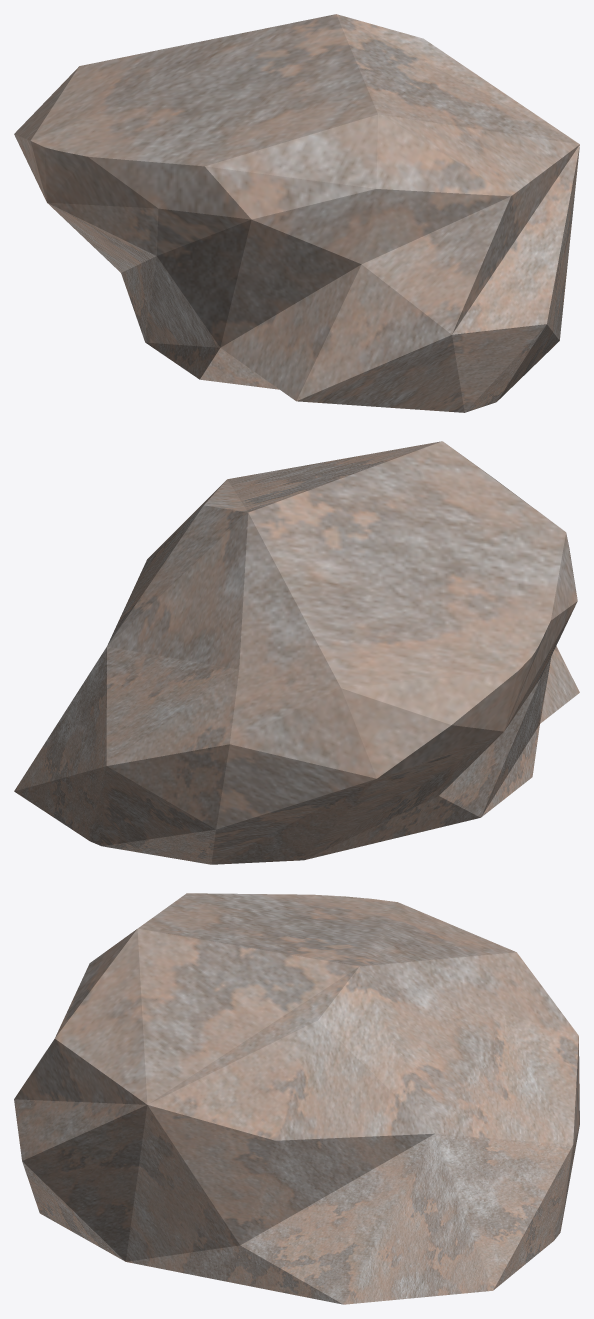
The model's file is stone9.fbx.
3 views of the same model, one above another, from view 1: azimuth 30°, elevation 25°; view 2: azimuth 150°, elevation 25°; view 3: azimuth 270°, elevation 25° (orthographic). The views are drawn at different scales.
Parts seen in each view (by area): view 1: Group58488; view 2: Group58488; view 3: Group58488.
Boxes of the visible parts, x1,y1,x2,y2 form: Group58488: [14, 14, 579, 412]; Group58488: [14, 441, 579, 864]; Group58488: [14, 893, 579, 1304].
Bounding box in the file's own units: 287 × 154 × 310.
